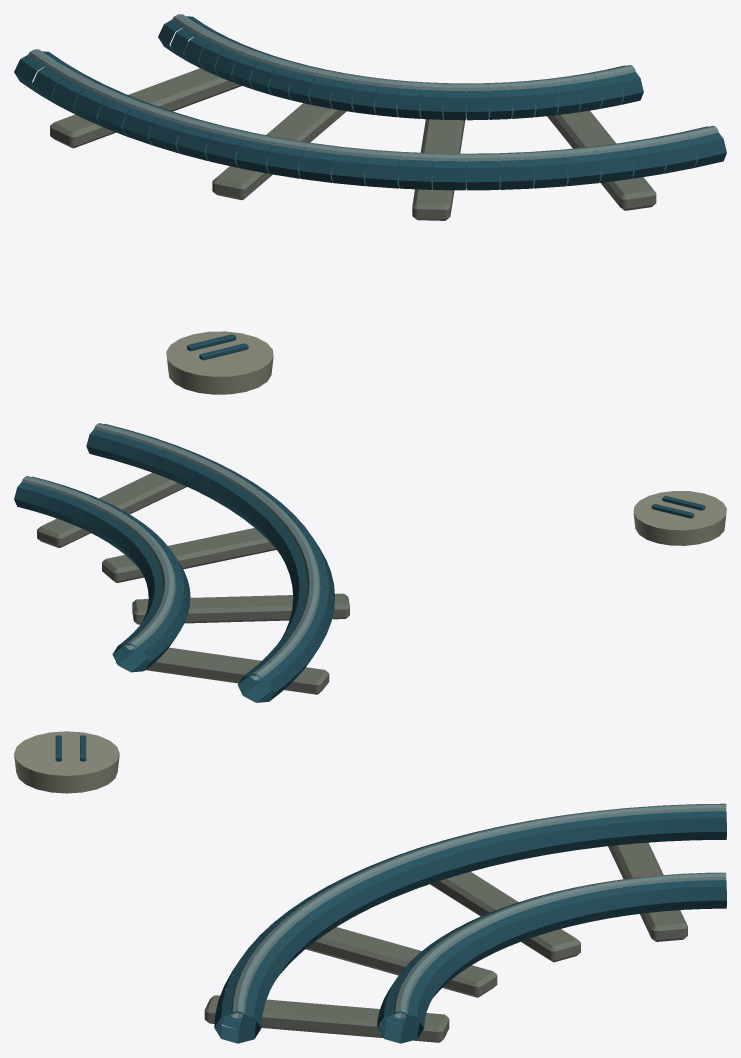
The model's file is voie_coude.glb.
3 renders of one model, top to bottom at view 1: azimuth 30°, elevation 25°; view 2: azimuth 150°, elevation 25°; view 3: azimuth 270°, elevation 25°, orthographic. The views are drawn at different scales.
Visible parts, largest first — view 1: Batch_PaintedMetal, Batch_MatteFitting, Batch_RailHighlight, Batch_Grip; view 2: Batch_PaintedMetal, Batch_MatteFitting, Batch_RailHighlight, Batch_Grip; view 3: Batch_PaintedMetal, Batch_MatteFitting, Batch_RailHighlight, Batch_Grip.
Boxes of the visible parts, x1,y1,x2,y2 form: Batch_PaintedMetal: (14,16,726,360); Batch_MatteFitting: (50,68,656,220); Batch_RailHighlight: (28,14,718,163); Batch_Grip: (166,331,273,394); Batch_PaintedMetal: (14,424,705,702); Batch_MatteFitting: (37,472,349,694); Batch_RailHighlight: (22,423,320,680); Batch_Grip: (633,491,726,545); Batch_PaintedMetal: (55,735,726,1043); Batch_MatteFitting: (204,842,687,1042); Batch_RailHighlight: (230,803,726,1018); Batch_Grip: (14,731,119,793).
Bounding box in the file's own units: 0.8759 × 0.067 × 0.8759.
